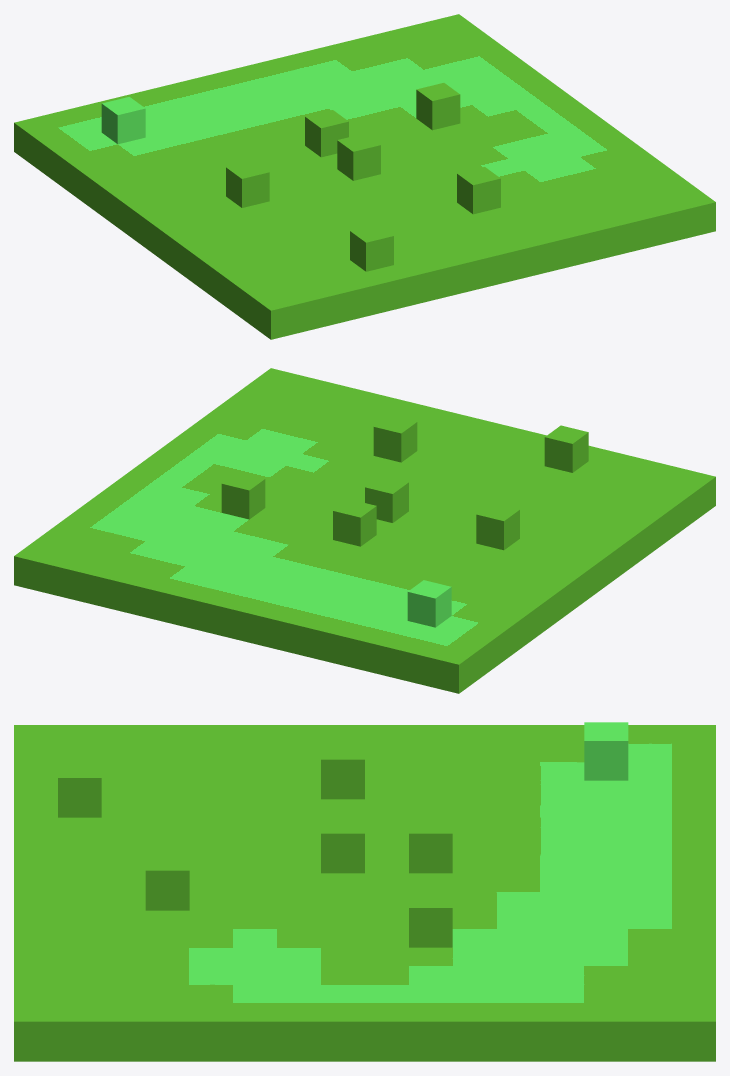
Rendered from env_grass2g.fbx.
3 renders of one model, top to bottom at view 1: azimuth 30°, elevation 25°; view 2: azimuth 150°, elevation 25°; view 3: azimuth 270°, elevation 25°, orthographic. The views are drawn at different scales.
Visible parts, largest first — view 1: env_grass2g; view 2: env_grass2g; view 3: env_grass2g.
Part boxes in pixels (x1,y1,x2,y2): env_grass2g: (14,14,715,339); env_grass2g: (14,368,715,693); env_grass2g: (14,722,715,1061).
Bounding box in the file's own units: 1.6 × 1.6 × 0.2.
Materials: 1 (1 with a texture image).
